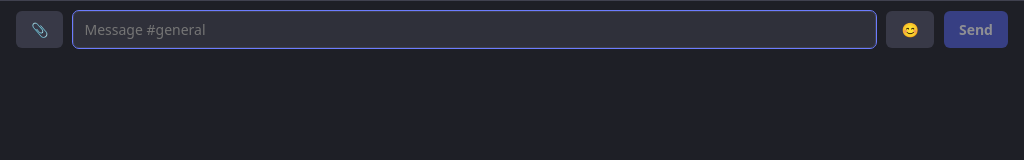
Test: Composer ':' suggestions › offers matching emoticons after a colon and two characters, and not before
Type ":p" into the dropdown with placeholder "Message #general" at (475, 30), box x1=74 y1=11 x2=876 y2=48
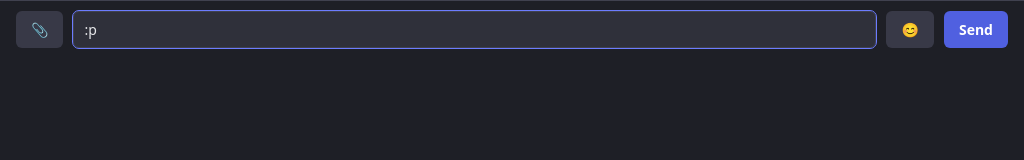
Replace the text in the dropdown with placeholder "Message #general" with ":pa" at (475, 30), box x1=74 y1=11 x2=876 y2=48
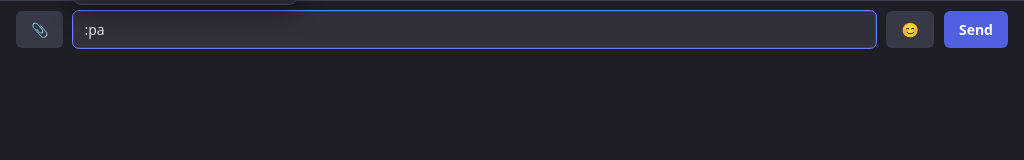
Expected: the dropdown with placeholder "Message #general" is expanded, x1=74 y1=11 x2=876 y2=48
